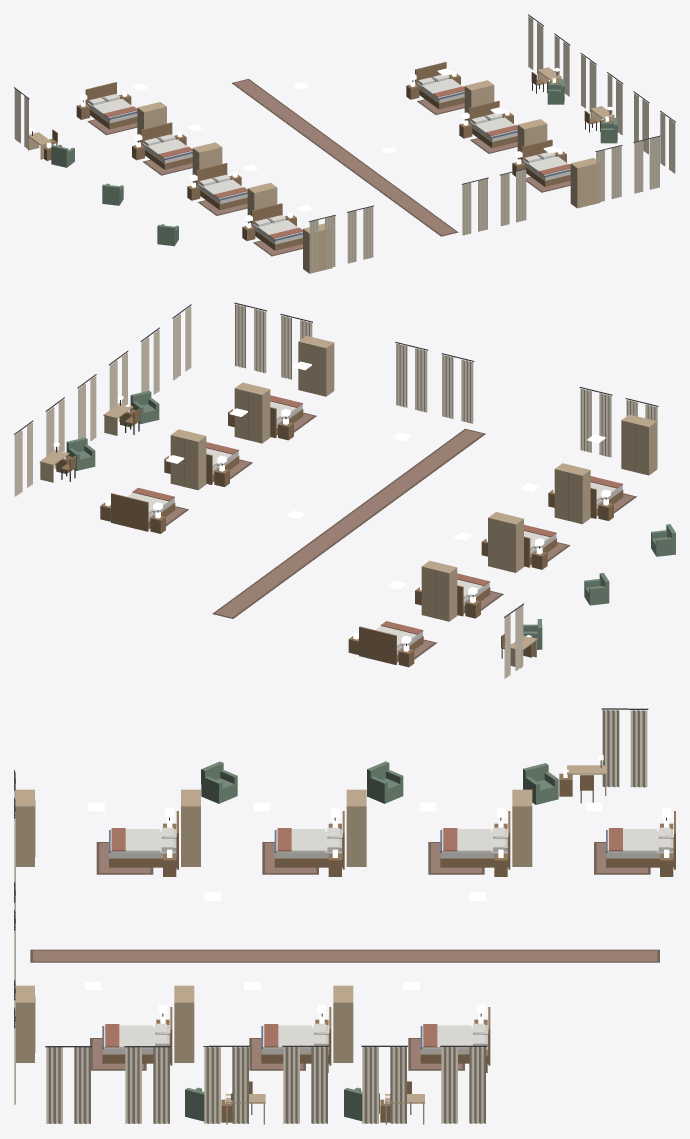
Rendered from fine-s4.glb.
The picture shows the model from 3 angles, top to bottom: view 1: azimuth 30°, elevation 25°; view 2: azimuth 150°, elevation 25°; view 3: azimuth 270°, elevation 25°; orthographic projection. The views are drawn at different scales.
Visible parts, largest first — view 1: soft-s4, dresser.023, dresser.027, bed-frame.025, bed-frame.026, bed-frame.027, bed-frame.024, bed-frame.022, bed-frame.021, bed-frame.023, dresser.026, dresser.022 (+8 smaller); view 2: soft-s4, dresser.026, dresser.024, dresser.025, dresser.027, dresser.021, dresser.022, dresser.023, bed-frame.024, bed-frame.021, lounge-chair.016, lounge-chair.015 (+2 smaller); view 3: soft-s4, dresser.021, dresser.022, dresser.024, dresser.025, dresser.026, dresser.027, dresser.023, lounge-chair.018, lounge-chair.019, bed-frame.026, bed-frame.025 (+7 smaller).
Boxes of the visible parts, box(x1,y1,x2,y2) form: soft-s4: box(14, 14, 675, 272); dresser.023: box(570, 158, 600, 208); dresser.027: box(303, 223, 332, 273); bed-frame.025: box(140, 122, 192, 169); bed-frame.026: box(196, 163, 247, 210); bed-frame.027: box(251, 203, 302, 250); bed-frame.024: box(85, 82, 137, 129); bed-frame.022: box(468, 100, 517, 147); bed-frame.021: box(415, 62, 464, 109); bed-frame.023: box(521, 139, 570, 186); dresser.026: box(247, 182, 277, 222); dresser.022: box(517, 119, 547, 159); soft-s4: box(14, 302, 658, 678); dresser.026: box(554, 463, 590, 524); dresser.024: box(421, 560, 457, 621); dresser.025: box(488, 512, 523, 572); dresser.027: box(621, 414, 656, 475); dresser.021: box(170, 429, 206, 490); dresser.022: box(234, 382, 270, 443); dresser.023: box(298, 336, 334, 396); bed-frame.024: box(359, 626, 423, 664); bed-frame.021: box(111, 493, 175, 531); lounge-chair.016: box(130, 390, 159, 424); lounge-chair.015: box(66, 437, 95, 470); soft-s4: box(14, 708, 671, 1123); dresser.021: box(333, 985, 353, 1062); dresser.022: box(174, 985, 194, 1062); dresser.024: box(512, 789, 532, 866); dresser.025: box(346, 789, 366, 866); dresser.026: box(181, 789, 200, 866); dresser.027: box(16, 789, 35, 866); dresser.023: box(16, 985, 35, 1062); lounge-chair.018: box(367, 761, 403, 803); lounge-chair.019: box(201, 761, 237, 803); bed-frame.026: box(274, 811, 344, 869); bed-frame.025: box(440, 811, 510, 869).
Size of the model in its own units: 24.02 by 2.63 by 19.87.
